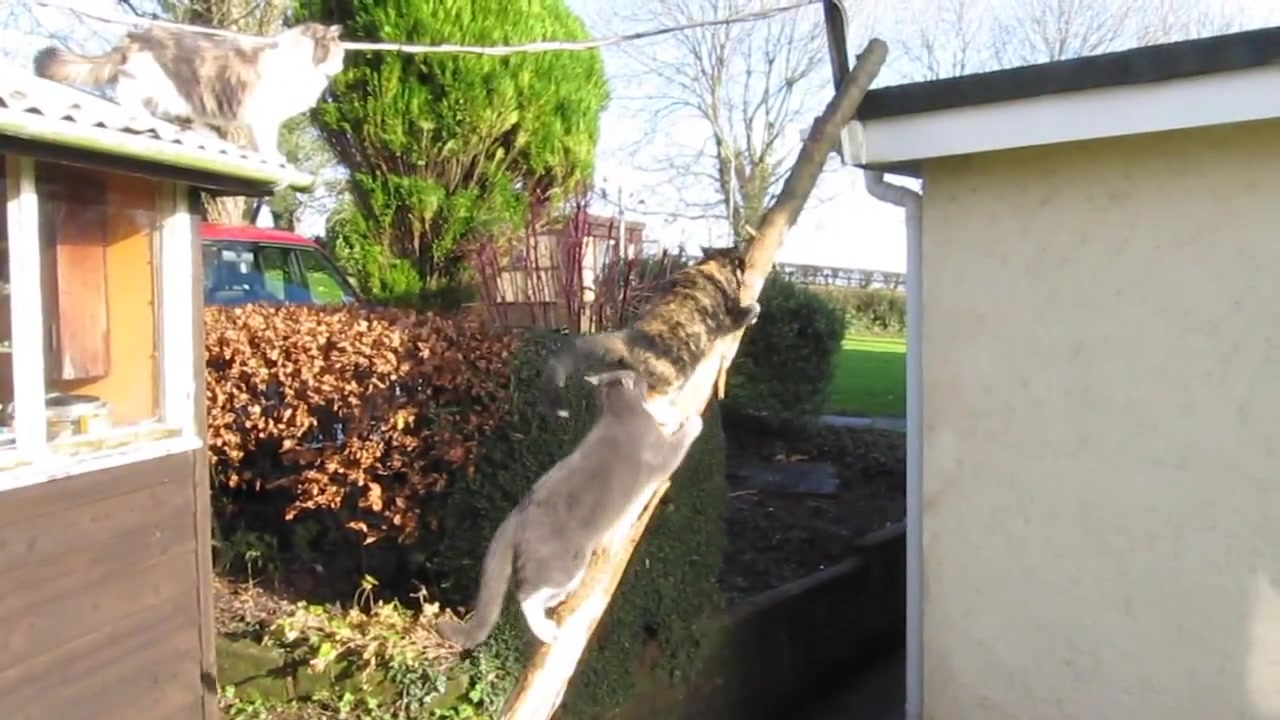cat: (432, 370, 706, 656)
